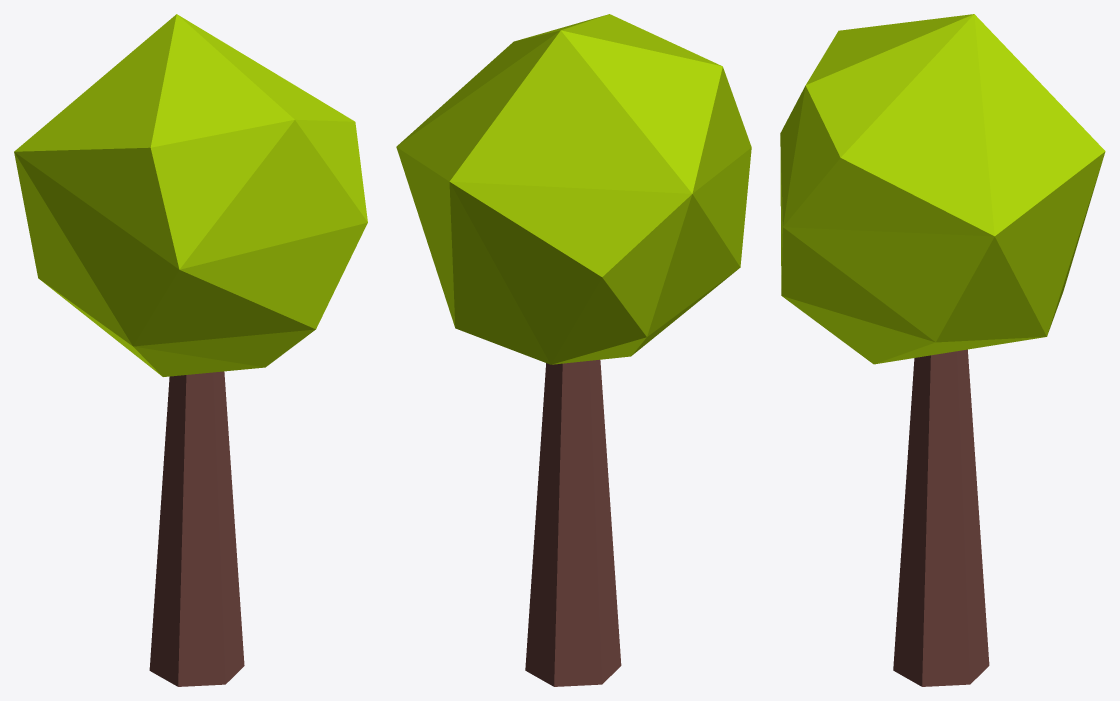
Rendered from SmallTreeScaled.fbx.
3 renders of one model, left to right at view 1: azimuth 30°, elevation 25°; view 2: azimuth 150°, elevation 25°; view 3: azimuth 270°, elevation 25°, orthographic.
Visible parts, largest first — view 1: Cylinder.002; view 2: Cylinder.002; view 3: Cylinder.002.
Boxes of the visible parts, <box> form: Cylinder.002: <box>14,14,367,686</box>; Cylinder.002: <box>396,14,751,686</box>; Cylinder.002: <box>780,14,1105,686</box>.
Size of the model in its own units: 372 by 765 by 346.
